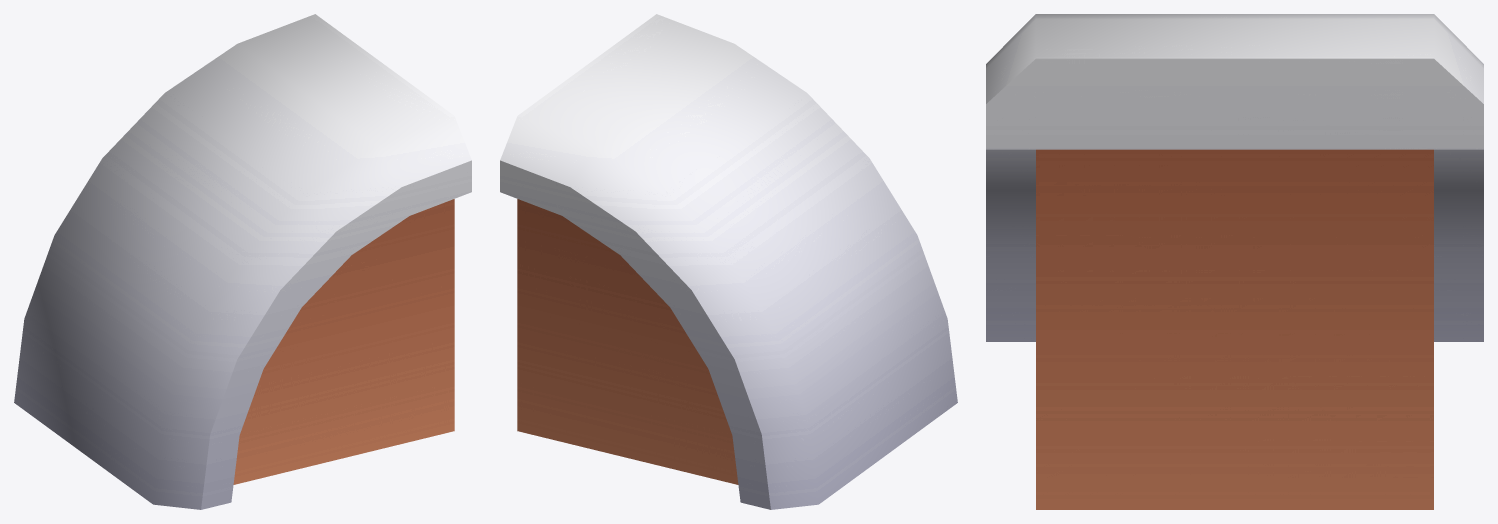
The model's file is block-snow-curve-half.glb.
The picture shows the model from 3 angles, left to right: view 1: azimuth 30°, elevation 25°; view 2: azimuth 150°, elevation 25°; view 3: azimuth 270°, elevation 25°; orthographic projection. The views are drawn at different scales.
Parts seen in each view (by area): view 1: block-snow-curve-half; view 2: block-snow-curve-half; view 3: block-snow-curve-half.
Part boxes in pixels (x1,y1,x2,y2): block-snow-curve-half: [14, 14, 471, 509]; block-snow-curve-half: [500, 14, 957, 509]; block-snow-curve-half: [986, 14, 1483, 509].
Size of the model in its own units: 1 by 1 by 1.
Materials: 1 (1 with a texture image).
